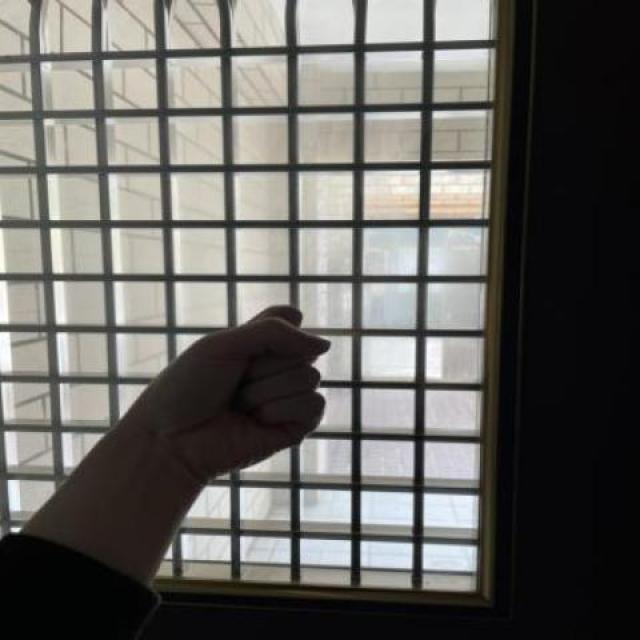Closed Hand: (133, 301, 334, 471)
